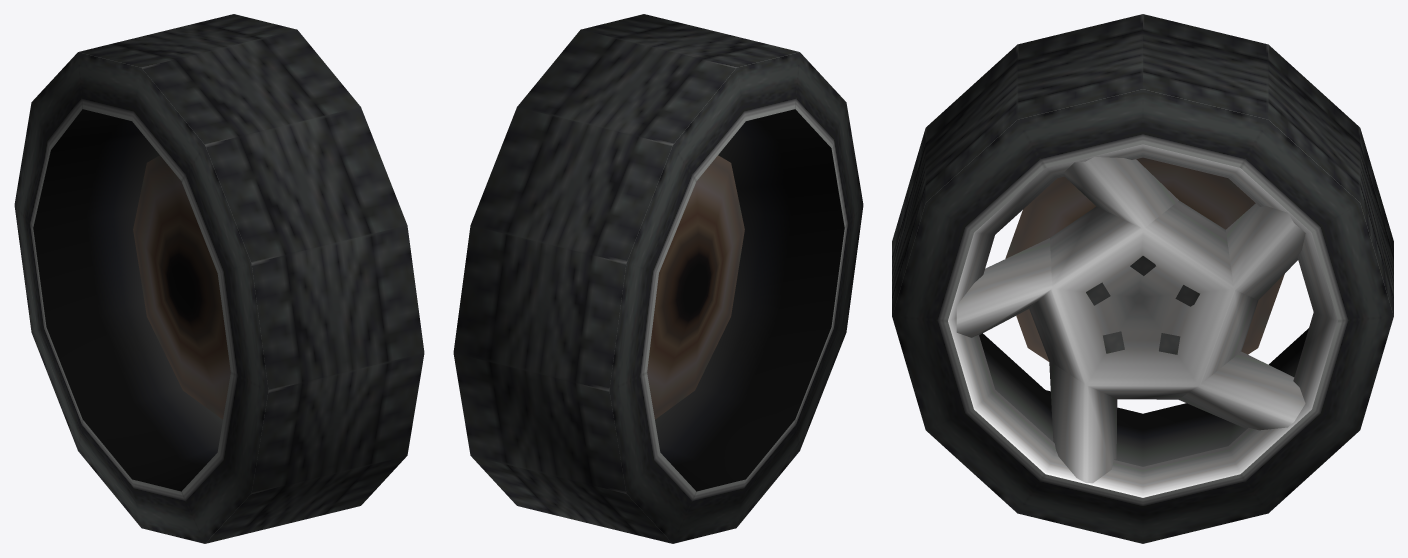
File: DefaultWheel_supergt.glb
The picture shows the model from 3 angles, left to right: view 1: azimuth 30°, elevation 25°; view 2: azimuth 150°, elevation 25°; view 3: azimuth 270°, elevation 25°; orthographic projection.
Parts seen in each view (by area): view 1: wheel; view 2: wheel; view 3: wheel.
Boxes of the visible parts, box(x1,y1,x2,y2) form: wheel: box(14, 14, 424, 543); wheel: box(453, 14, 863, 543); wheel: box(892, 14, 1393, 543).
Bounding box in the file's own units: 0.2816 × 0.696 × 0.696.
3 materials, 3 textured.
